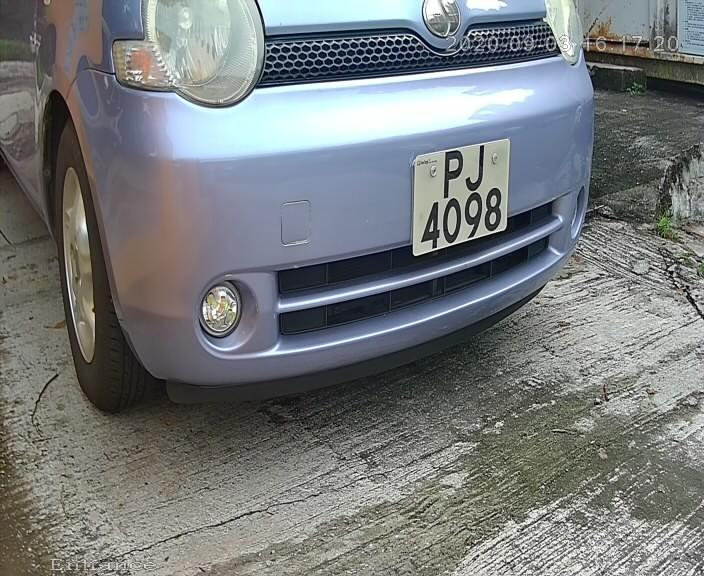License Plate: (403, 127, 522, 268)
